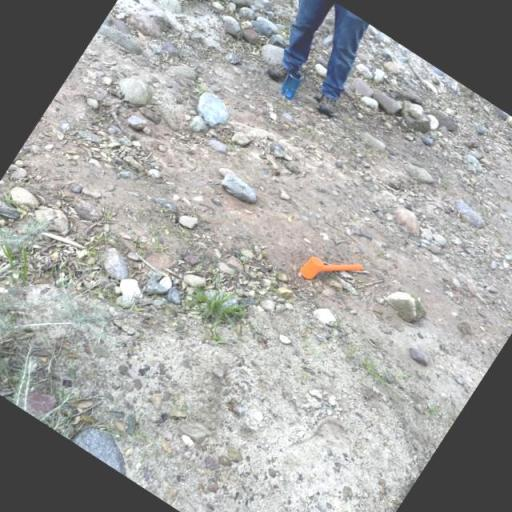bottle: (276, 66, 306, 100)
mallet: (298, 239, 363, 301)
